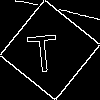T: (25, 25, 60, 74)
